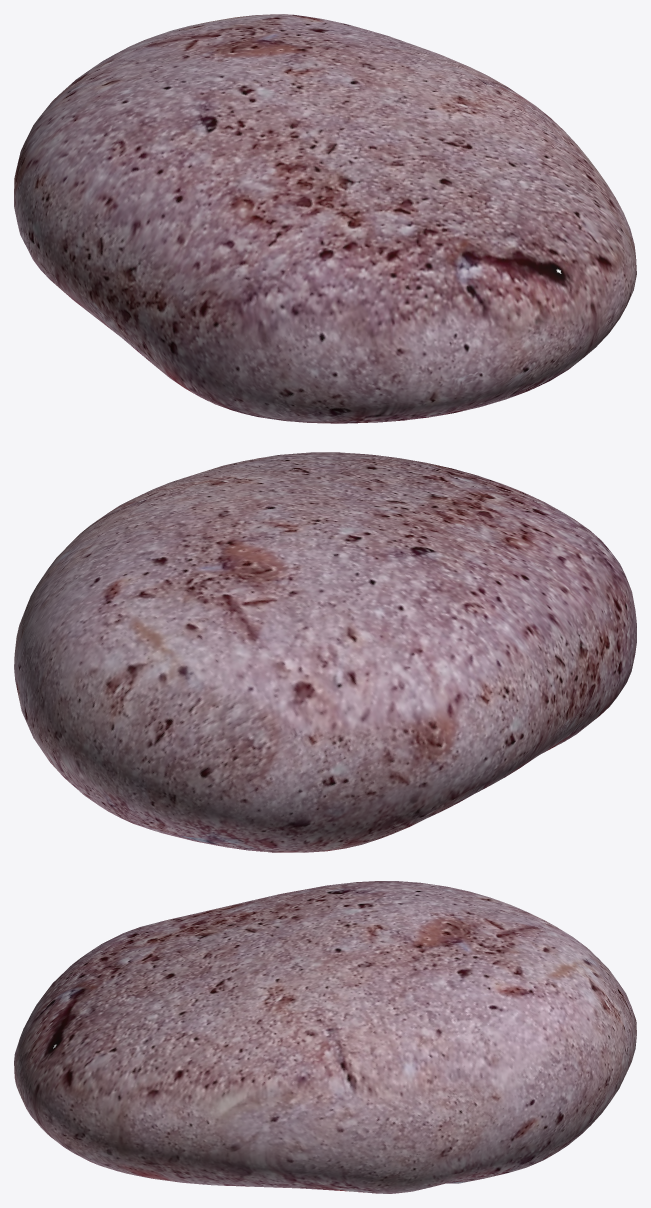
The model's file is BeachRock8.fbx.
3 renders of one model, top to bottom at view 1: azimuth 30°, elevation 25°; view 2: azimuth 150°, elevation 25°; view 3: azimuth 270°, elevation 25°, orthographic. The views are drawn at different scales.
Parts seen in each view (by area): view 1: BeachRock8_LOD0; view 2: BeachRock8_LOD0; view 3: BeachRock8_LOD0.
Boxes of the visible parts, x1,y1,x2,y2 form: BeachRock8_LOD0: [14, 14, 636, 423]; BeachRock8_LOD0: [14, 452, 636, 852]; BeachRock8_LOD0: [14, 881, 636, 1193].
Size of what is drawn, in the model's own units: 20.19 by 9.95 by 25.17.
